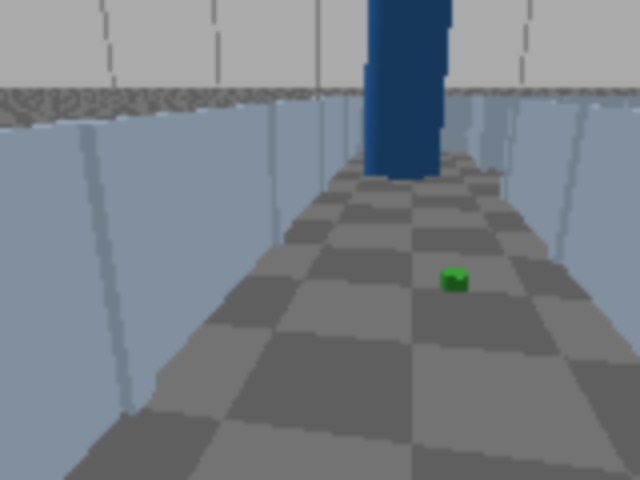puck: (443, 268, 467, 293)
